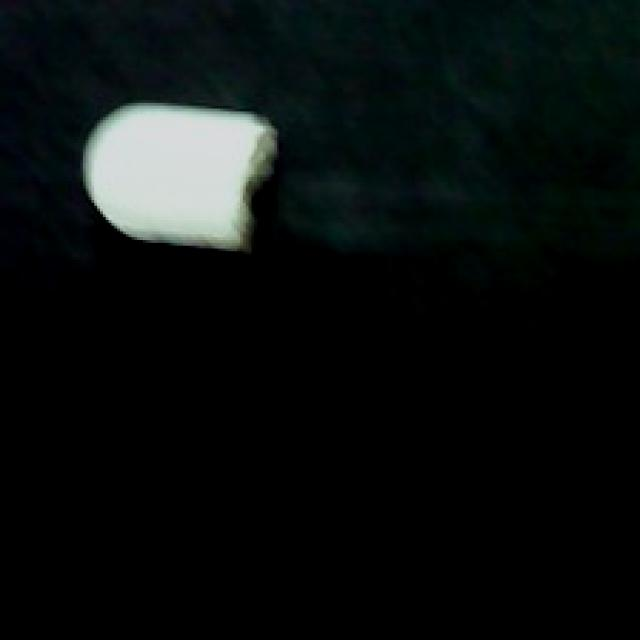defected: (74, 91, 282, 261)
